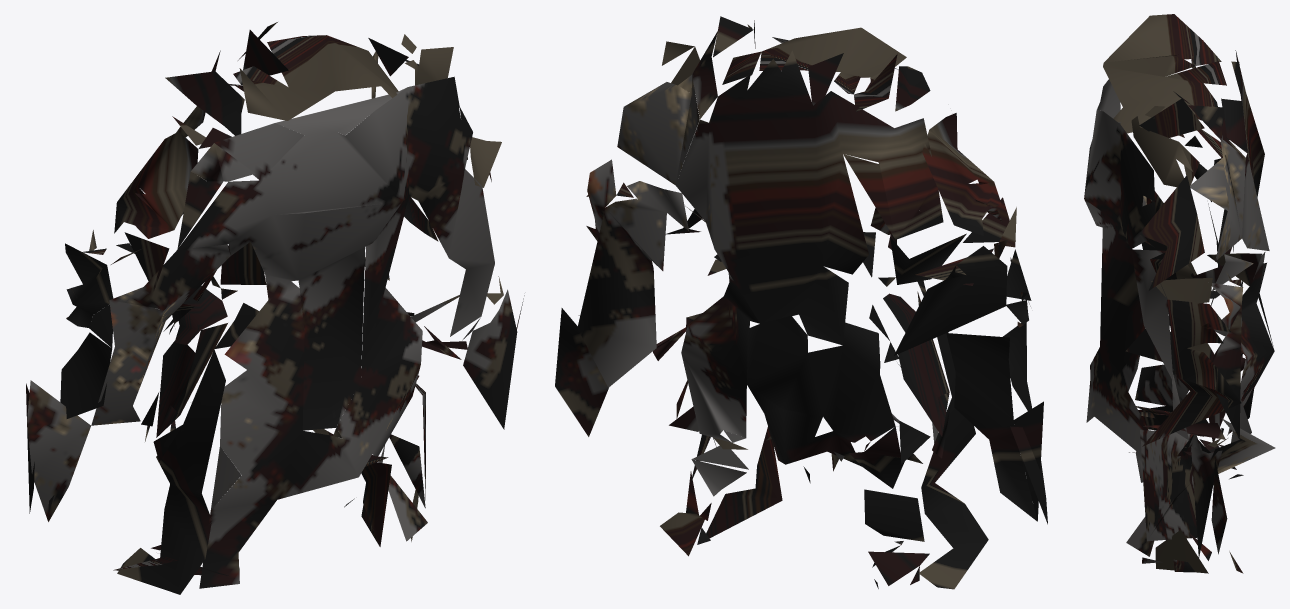
3 views of the same model, side by side, from view 1: azimuth 30°, elevation 25°; view 2: azimuth 150°, elevation 25°; view 3: azimuth 270°, elevation 25° (orthographic). The views are drawn at different scales.
Parts seen in each view (by area): view 1: body.002; view 2: body.002; view 3: body.002.
Boxes of the visible parts, x1=… form: body.002: x1=26, y1=22, x2=524, y2=594; body.002: x1=555, y1=16, x2=1047, y2=589; body.002: x1=1084, y1=14, x2=1275, y2=573.
Size of the model in its own units: 1.99 by 2.02 by 0.7169.
1 material, 1 textured.
